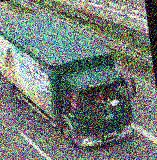truck: (0, 2, 136, 158)
